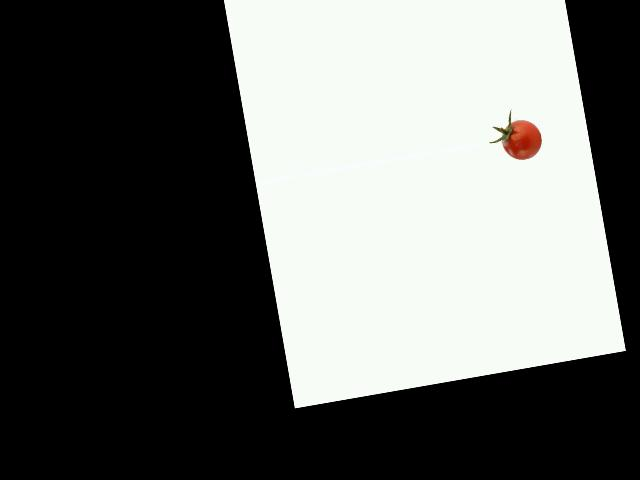tomato: (499, 117, 545, 163)
